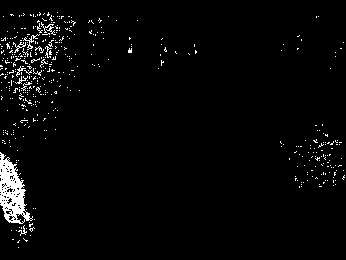person: (1, 150, 34, 236)
